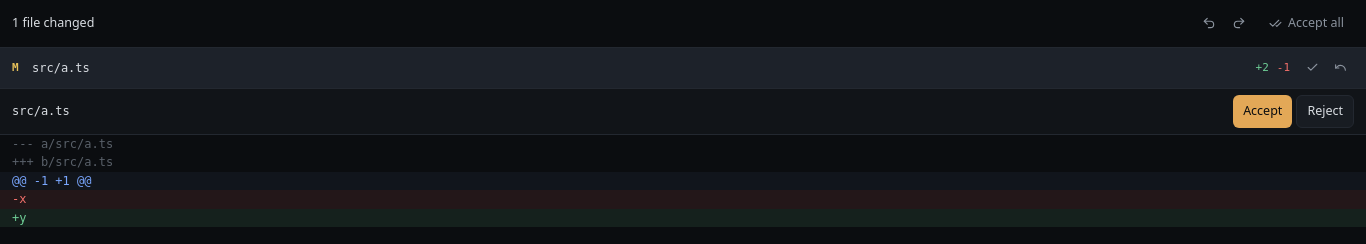
it: ChangesPanel › rejecting reverts the file; reverted changes are no longer counted
The width and height of the screenshot is (1366, 244).
What coordinates should you click on to do the following:
click the button "Reject"
I would click on:
 (1325, 111)
Its box is left=1296, top=95, right=1354, bottom=128.
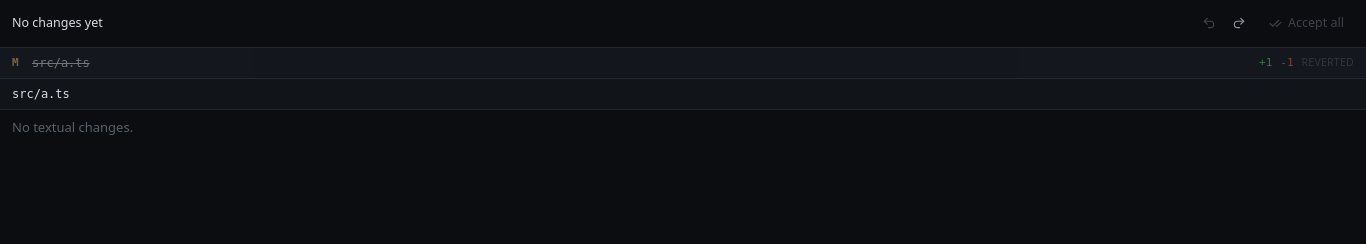
Check: the text with test id "changes-summary" reads "No changes yet", box left=12, top=14, right=103, bottom=31
